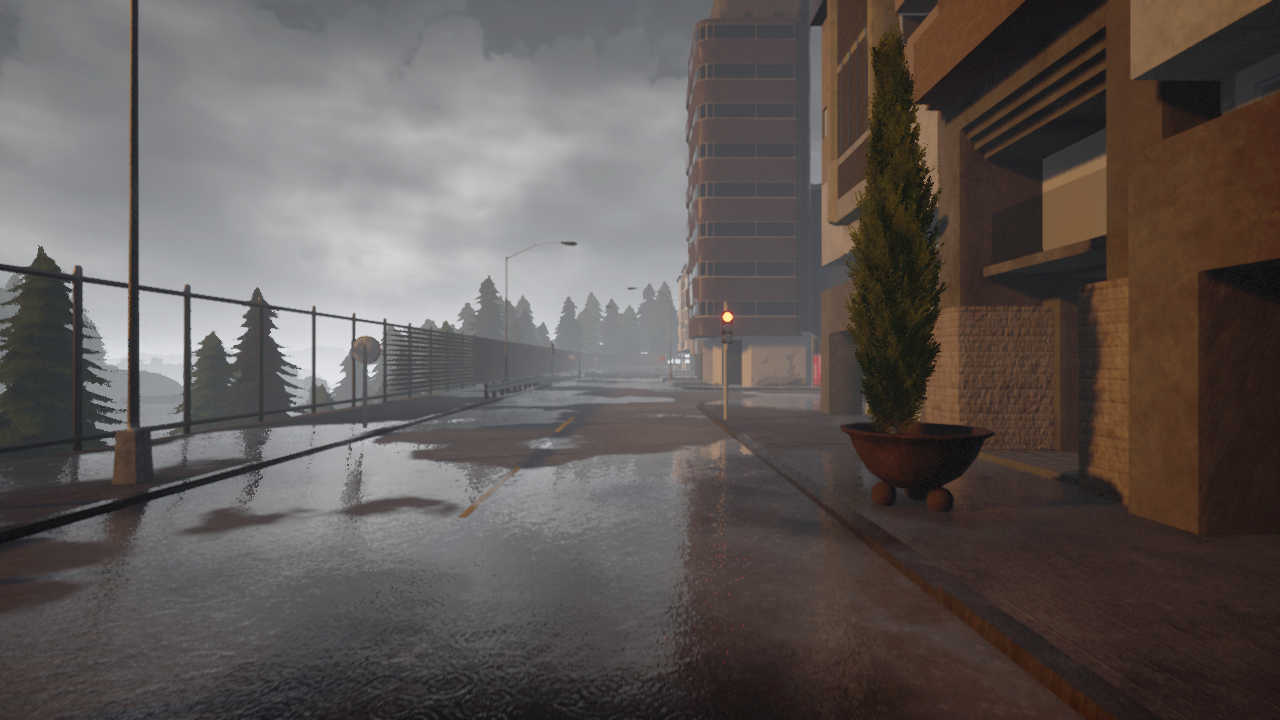red: (721, 310, 735, 345)
